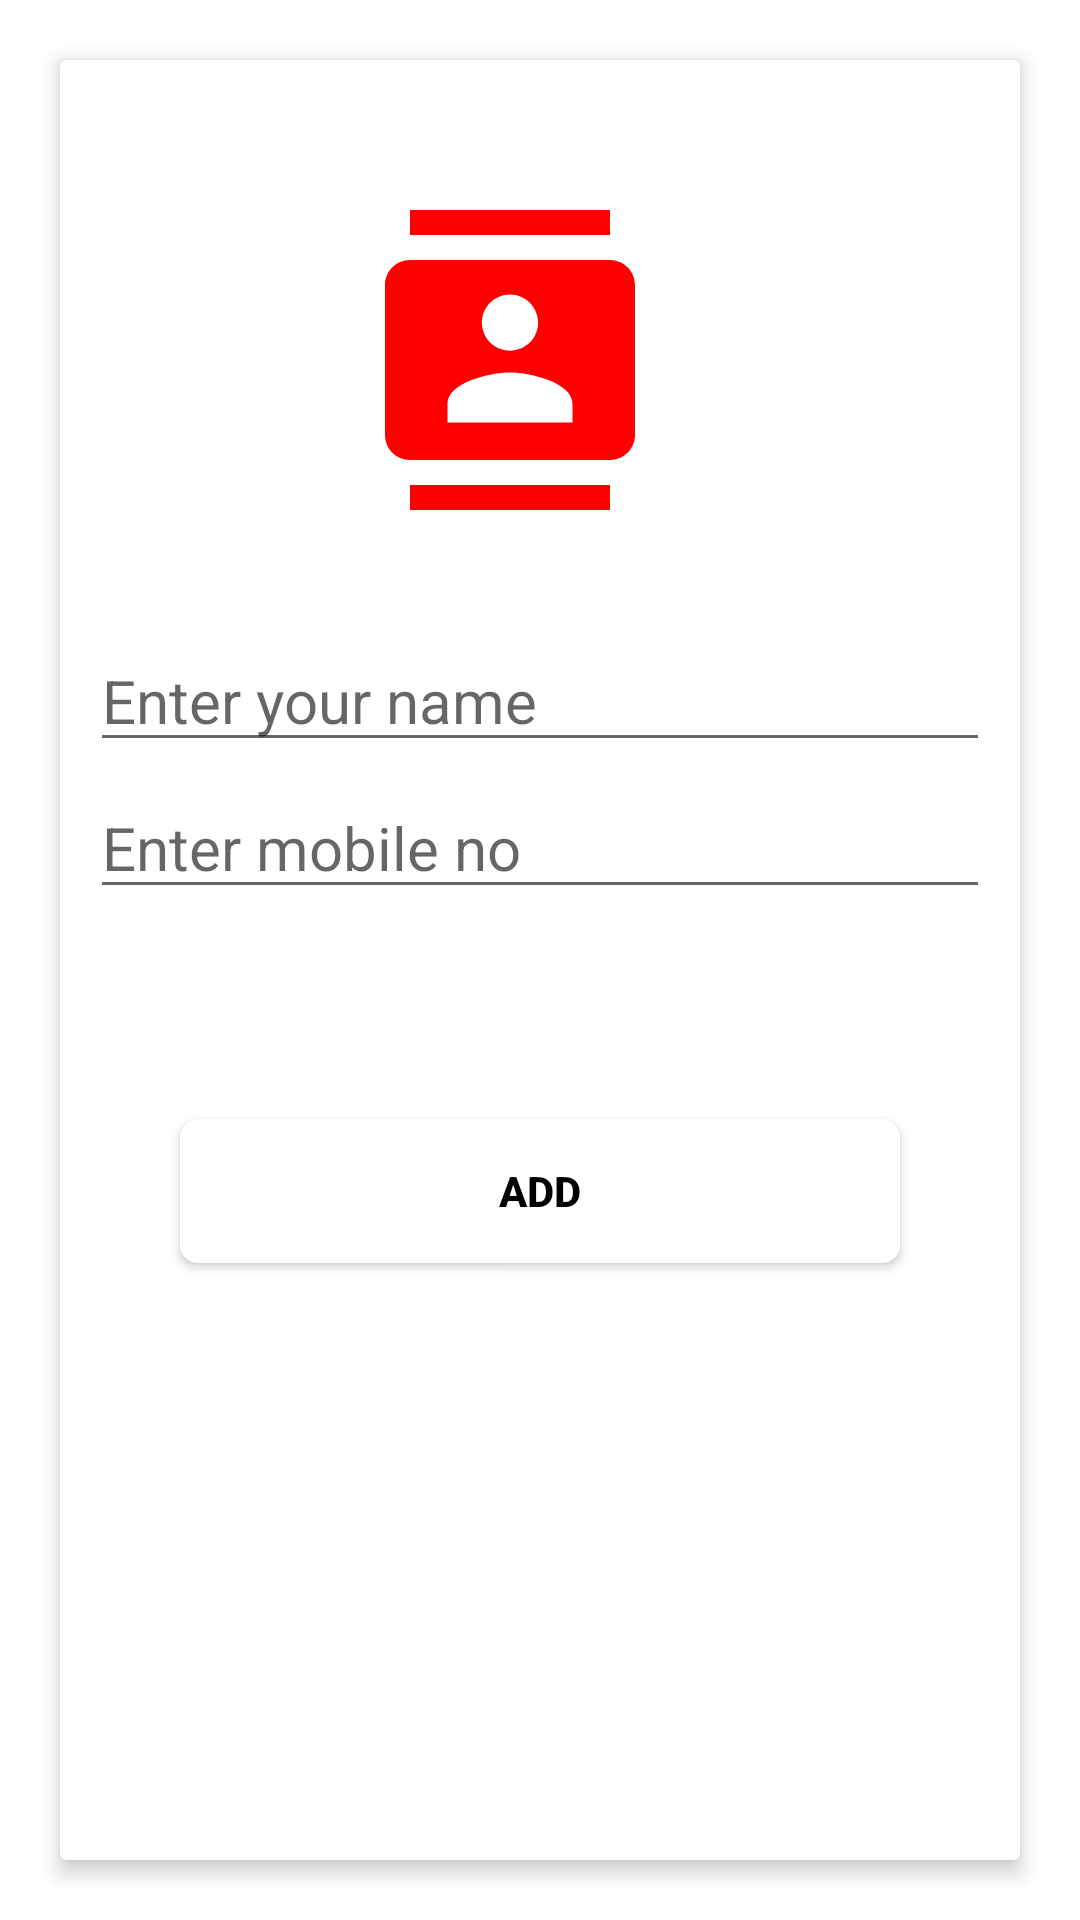

Where to tap for icons on this 1080px x 1920px app screen, as [x,y]:
contacts: [510,360]
